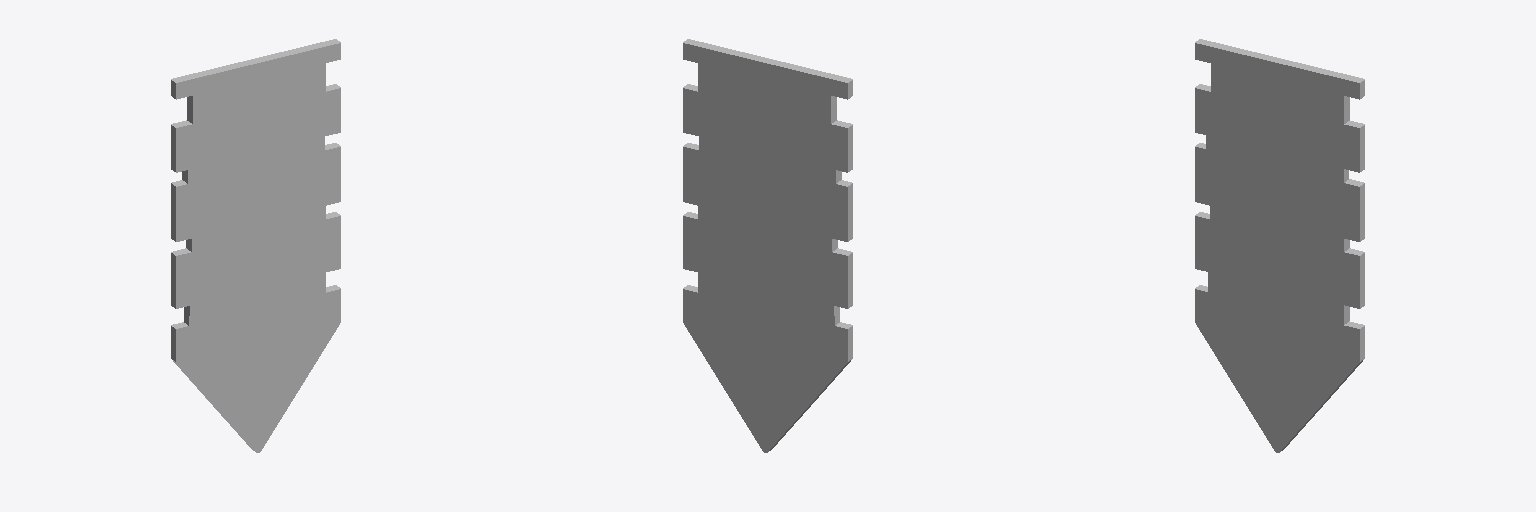
Rendered from Flag.obj.
3 views of the same model, side by side, from view 1: azimuth 30°, elevation 25°; view 2: azimuth 150°, elevation 25°; view 3: azimuth 330°, elevation 25° (orthographic).
Parts seen in each view (by area): view 1: Cube.001; view 2: Cube.001; view 3: Cube.001.
Boxes of the visible parts, <box> form: Cube.001: <box>171,39,340,452</box>; Cube.001: <box>683,39,852,452</box>; Cube.001: <box>1195,39,1364,452</box>.
Size of the model in its own units: 3.98 by 8.97 by 0.2315.